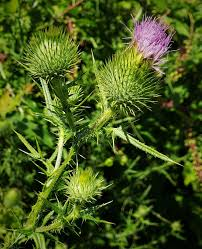bull thistle: (95, 14, 178, 118)
